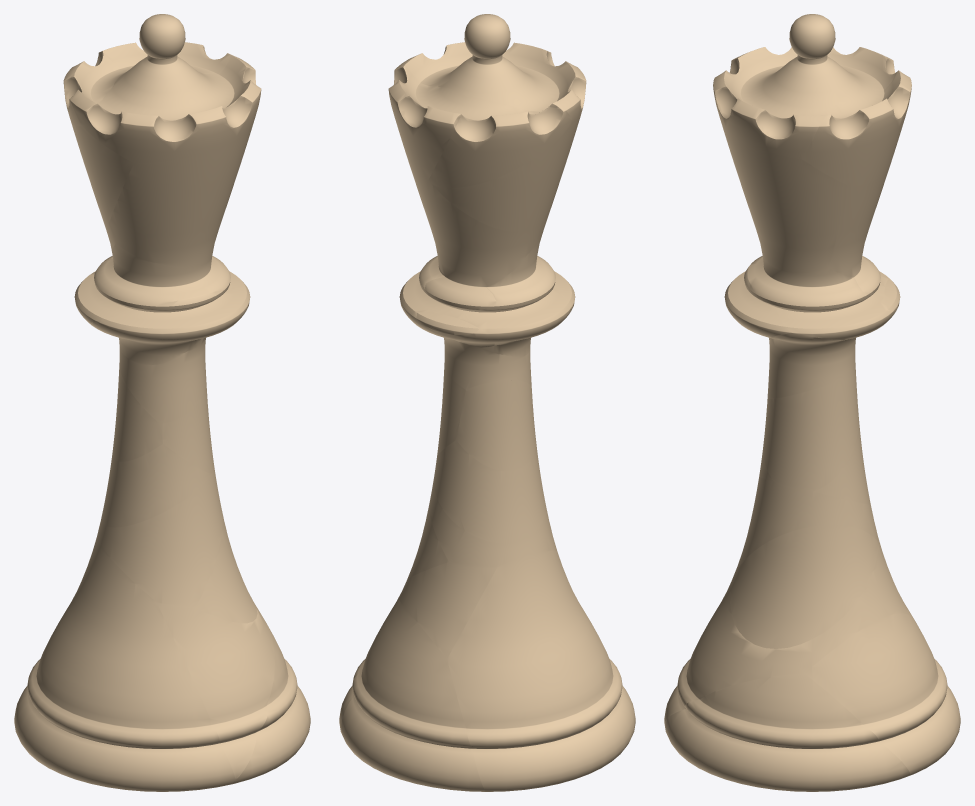
The model's file is queen.glb.
The picture shows the model from 3 angles, left to right: view 1: azimuth 30°, elevation 25°; view 2: azimuth 150°, elevation 25°; view 3: azimuth 270°, elevation 25°; orthographic projection.
Visible parts, largest first — view 1: chunk-02.004, chunk-17, chunk-13.003, chunk-03.004, chunk-05.004, chunk-11.004, chunk-10.004, chunk-06.004, chunk-00.004, chunk-09.004, chunk-04.004, chunk-14.002 (+4 smaller); view 2: chunk-02.004, chunk-01.004, chunk-17, chunk-12.003, chunk-11.004, chunk-06.004, chunk-15.002, chunk-14.002, chunk-07.004, chunk-03.004, chunk-16, chunk-05.004 (+4 smaller); view 3: chunk-00.004, chunk-01.004, chunk-04.004, chunk-17, chunk-13.003, chunk-03.004, chunk-08.004, chunk-16, chunk-11.004, chunk-05.004, chunk-09.004, chunk-12.003 (+3 smaller).
Part boxes in pixels (left/top/right/bottom): chunk-02.004: left=14, top=533, right=235, bottom=791; chunk-17: left=70, top=14, right=261, bottom=162; chunk-13.003: left=109, top=123, right=253, bottom=267; chunk-03.004: left=157, top=602, right=274, bottom=779; chunk-05.004: left=97, top=468, right=222, bottom=607; chunk-11.004: left=74, top=243, right=246, bottom=323; chunk-10.004: left=90, top=286, right=250, bottom=364; chunk-06.004: left=101, top=444, right=211, bottom=527; chunk-00.004: left=231, top=623, right=310, bottom=784; chunk-09.004: left=119, top=337, right=206, bottom=423; chunk-04.004: left=195, top=511, right=257, bottom=623; chunk-14.002: left=73, top=126, right=133, bottom=223; chunk-02.004: left=447, top=550, right=635, bottom=791; chunk-01.004: left=341, top=599, right=485, bottom=791; chunk-17: left=399, top=14, right=586, bottom=122; chunk-12.003: left=409, top=165, right=541, bottom=334; chunk-11.004: left=399, top=238, right=570, bottom=348; chunk-06.004: left=434, top=440, right=545, bottom=543; chunk-15.002: left=427, top=98, right=572, bottom=187; chunk-14.002: left=433, top=121, right=578, bottom=231; chunk-07.004: left=456, top=380, right=535, bottom=471; chunk-03.004: left=398, top=562, right=497, bottom=658; chunk-16: left=388, top=65, right=468, bottom=181; chunk-05.004: left=429, top=479, right=557, bottom=566; chunk-00.004: left=664, top=673, right=910, bottom=791; chunk-01.004: left=804, top=613, right=960, bottom=775; chunk-04.004: left=730, top=524, right=877, bottom=648; chunk-17: left=713, top=14, right=855, bottom=159; chunk-13.003: left=722, top=125, right=850, bottom=272; chunk-03.004: left=664, top=537, right=910, bottom=723; chunk-08.004: left=763, top=374, right=858, bottom=491; chunk-16: left=803, top=70, right=911, bottom=185; chunk-11.004: left=748, top=254, right=896, bottom=339; chunk-05.004: left=734, top=477, right=878, bottom=573; chunk-09.004: left=767, top=333, right=855, bottom=398; chunk-12.003: left=829, top=171, right=900, bottom=311.
Size of the model in its own units: 0.612 by 1.63 by 0.612.
